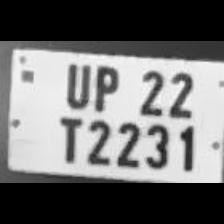1: (172, 118, 198, 170)
2: (163, 66, 195, 118), (134, 66, 166, 116), (82, 116, 112, 166), (111, 118, 141, 168)
3: (141, 118, 171, 170)
P: (88, 61, 120, 112)
T: (51, 110, 84, 164)
U: (57, 58, 90, 108)
